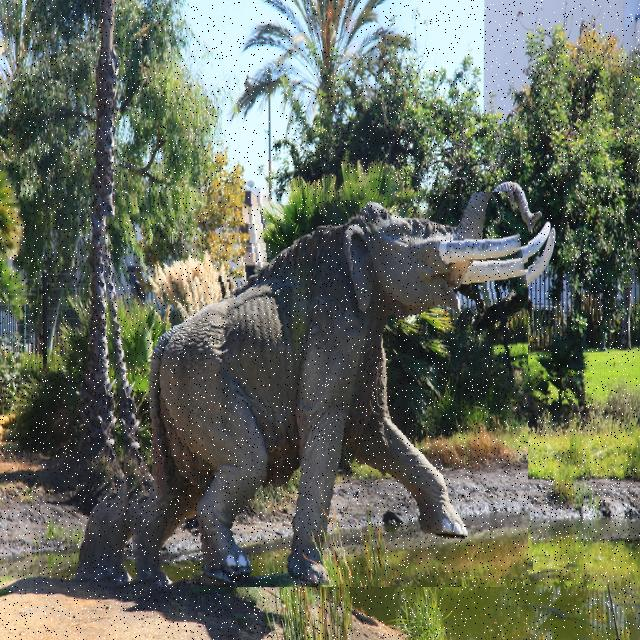elephant: (97, 197, 528, 587)
